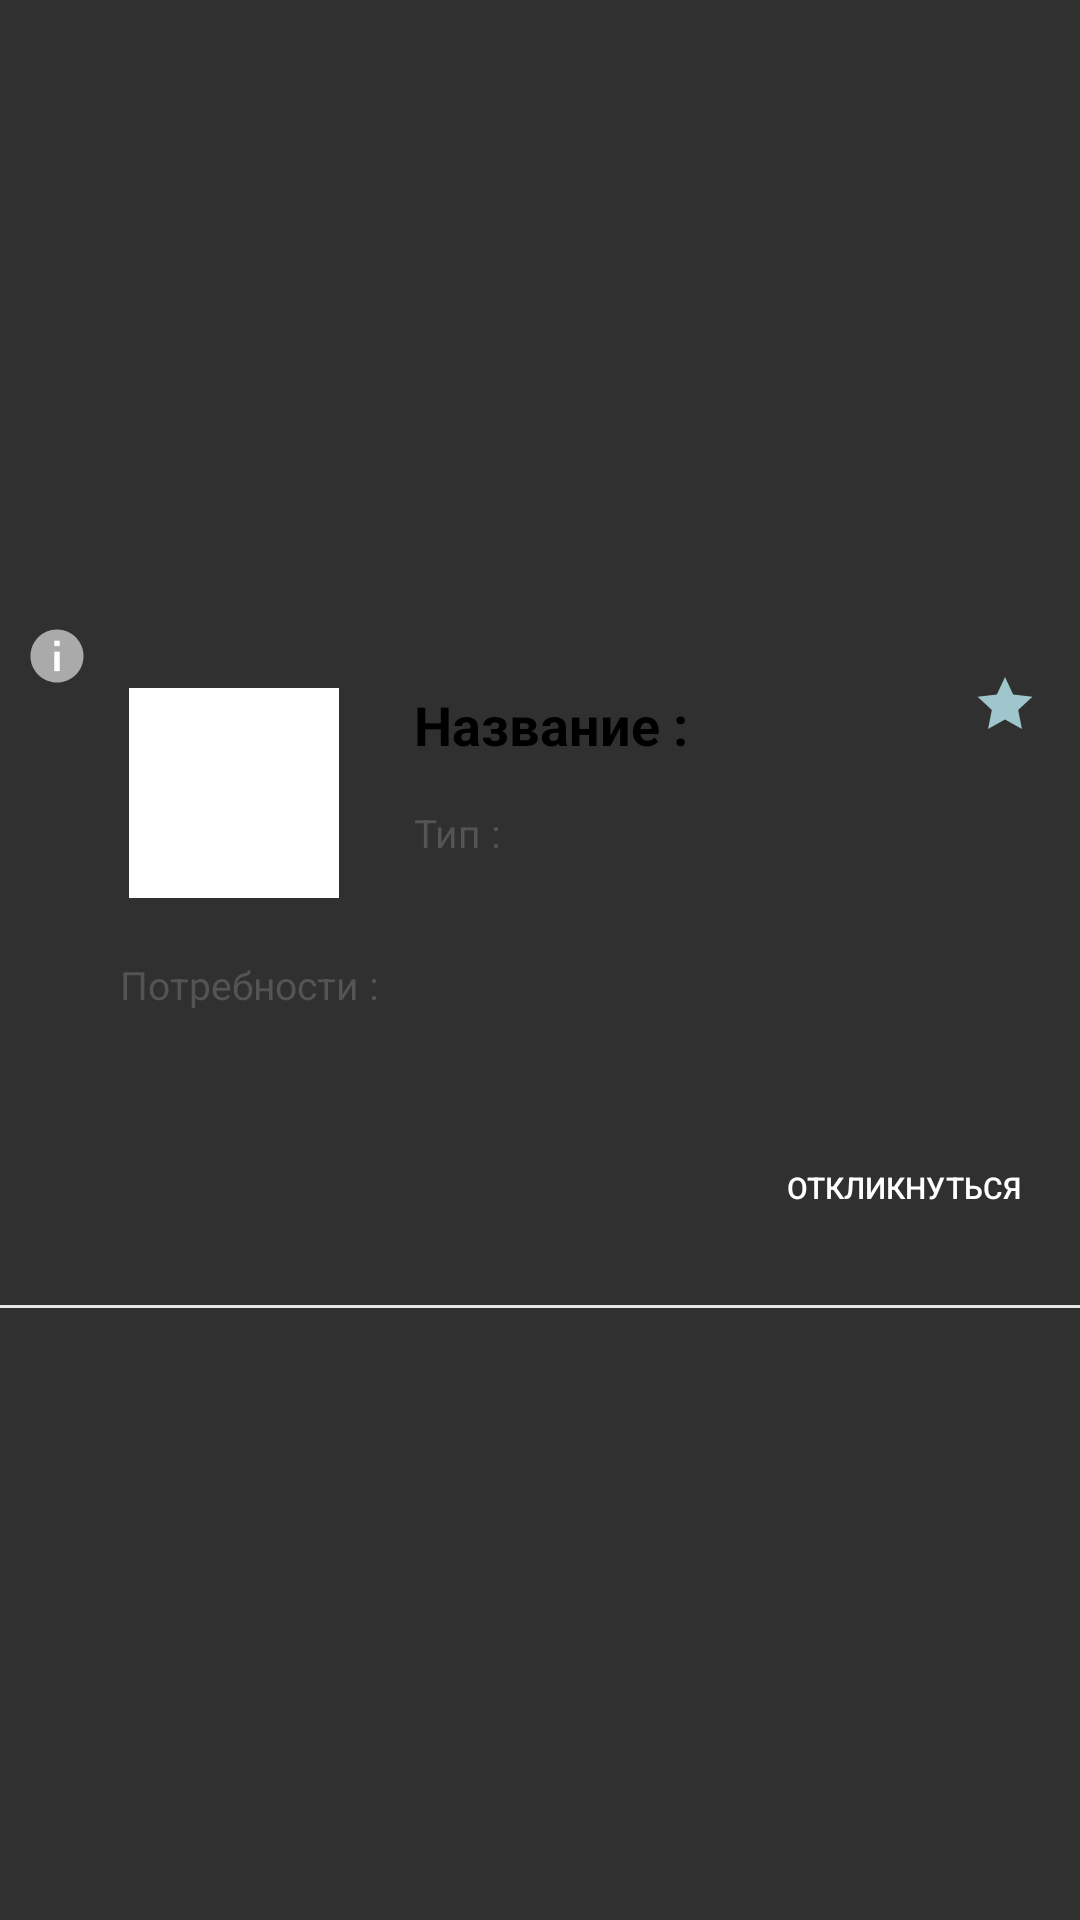

Where to tap for icons on this 1080×1920 app screen, as [x,y]:
fav false: [1005,703]
full info: [57,656]
